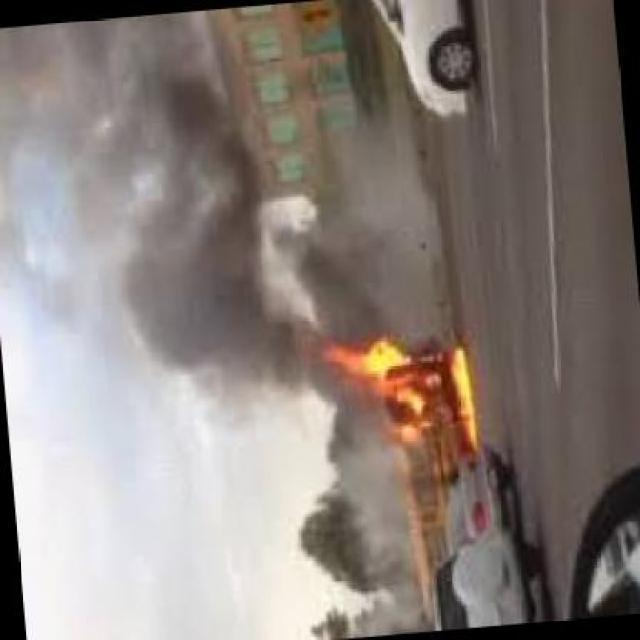Fire: (342, 338, 476, 418)
Smoke: (5, 28, 296, 415), (292, 73, 484, 320), (312, 440, 446, 636)
